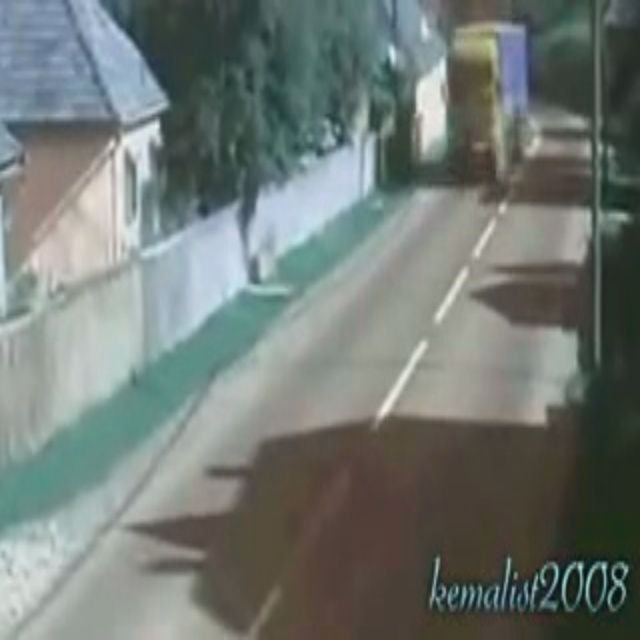acc: (429, 107, 520, 200)
